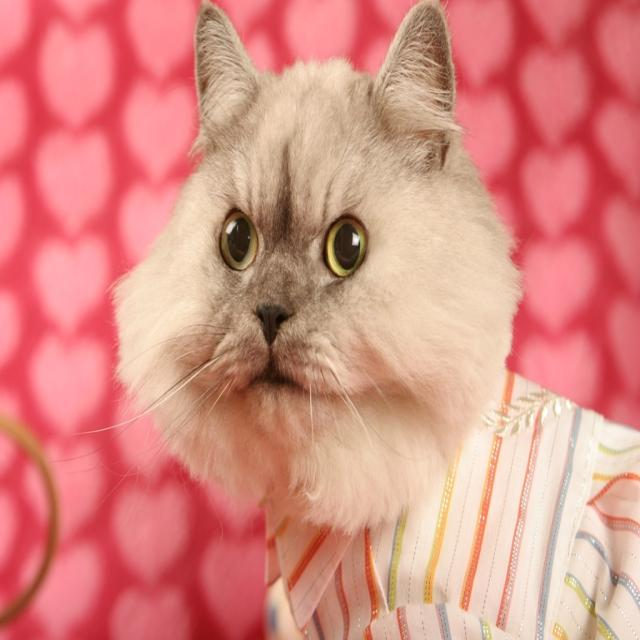Cat: (52, 0, 639, 639)
